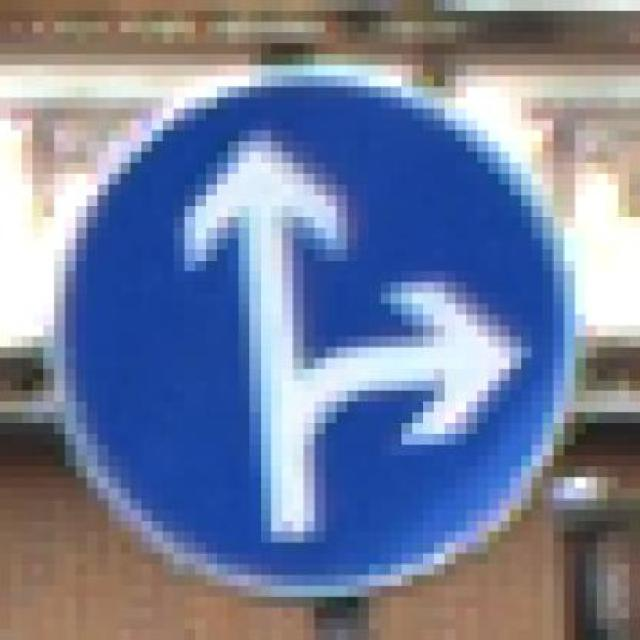Go Straight or Turn Right: (39, 53, 603, 618)
